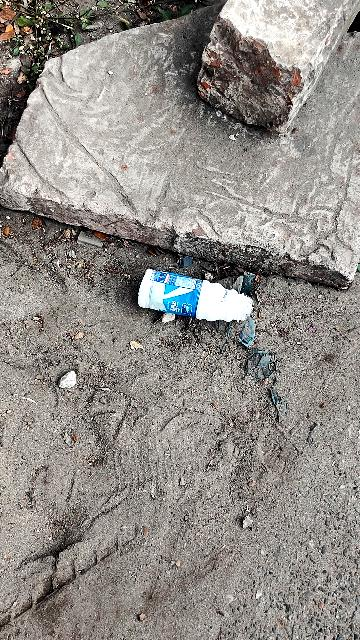bottle: (130, 266, 258, 326)
